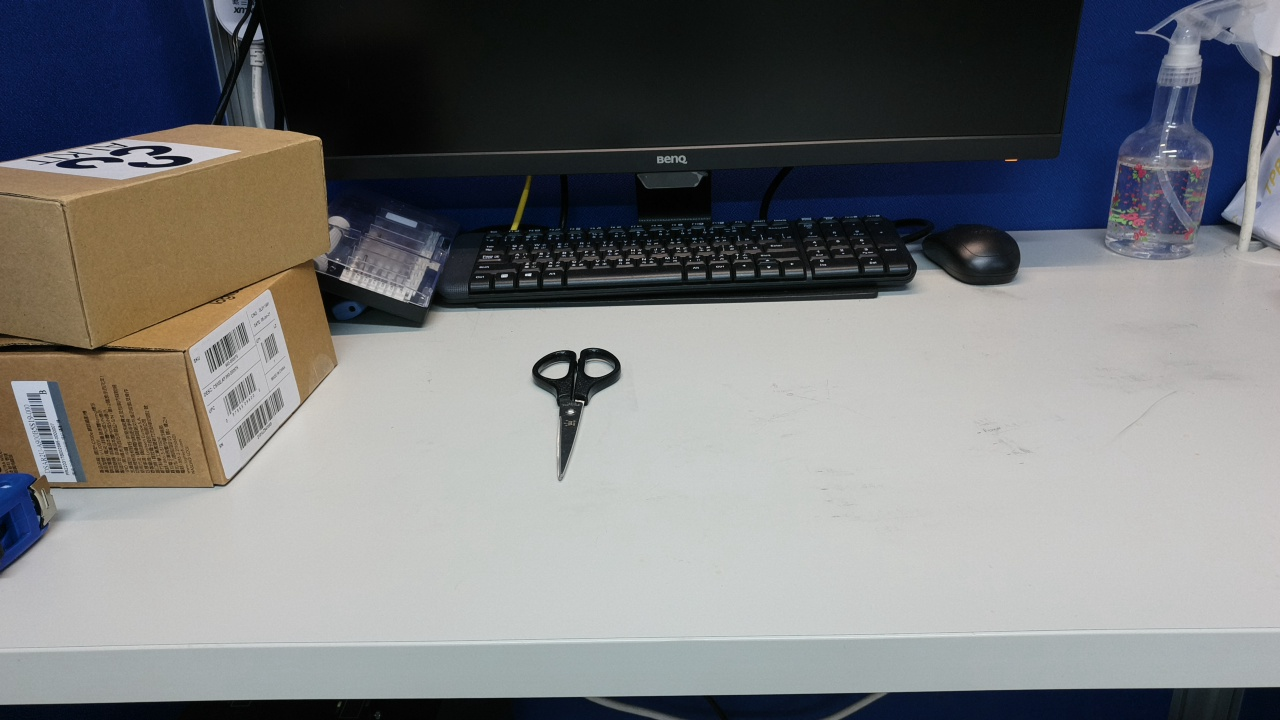blade: (442, 503, 508, 623)
grasp: (459, 435, 587, 527)
